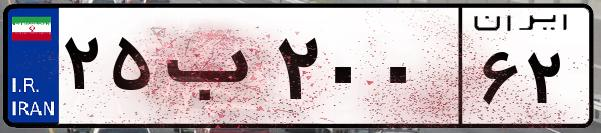0: (385, 28, 445, 110), (330, 28, 385, 110)
2: (270, 28, 330, 110), (57, 26, 110, 100), (525, 38, 570, 115)
5: (110, 28, 158, 98)
6: (475, 38, 525, 113)
ب: (158, 20, 270, 120)
